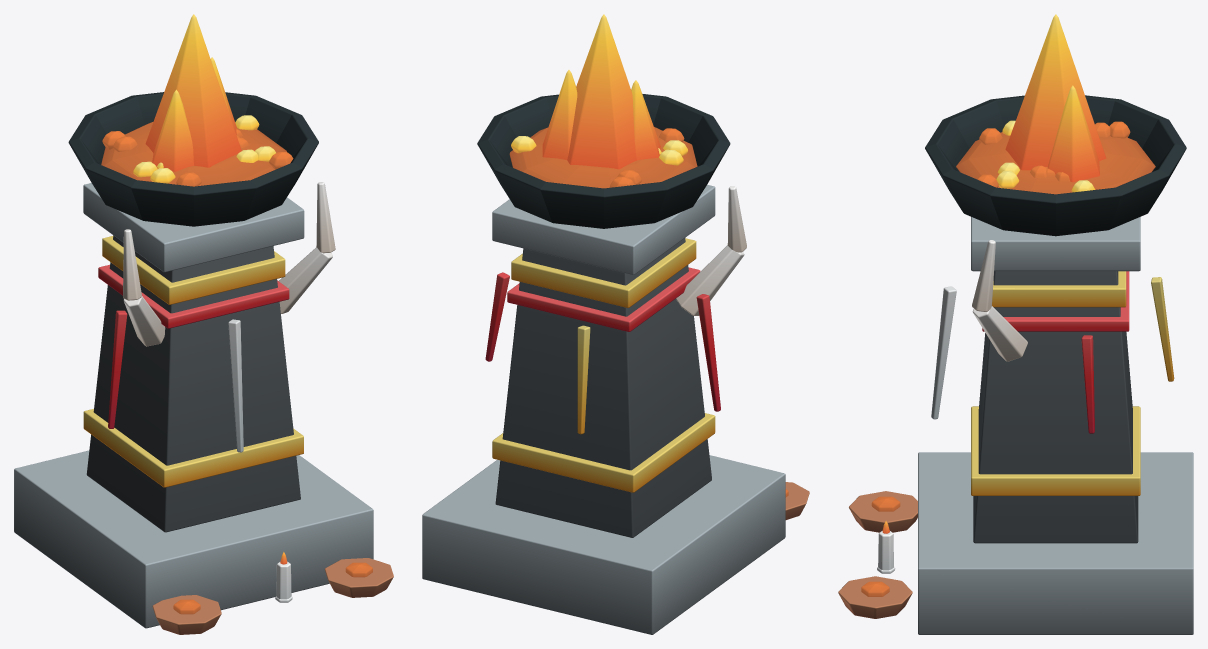
The model's file is pilgrim_brazier.glb.
3 views of the same model, side by side, from view 1: azimuth 30°, elevation 25°; view 2: azimuth 150°, elevation 25°; view 3: azimuth 270°, elevation 25° (orthographic). The views are drawn at different scales.
Parts seen in each view (by area): view 1: pilgrim_brazier; view 2: pilgrim_brazier; view 3: pilgrim_brazier.
Boxes of the visible parts, <box> form: pilgrim_brazier: <box>14,14,393,634</box>; pilgrim_brazier: <box>422,14,809,634</box>; pilgrim_brazier: <box>838,14,1193,634</box>.
Bounding box in the file's own units: 1.33 × 2.93 × 1.68.
Materials: 7 (7 with a texture image).
